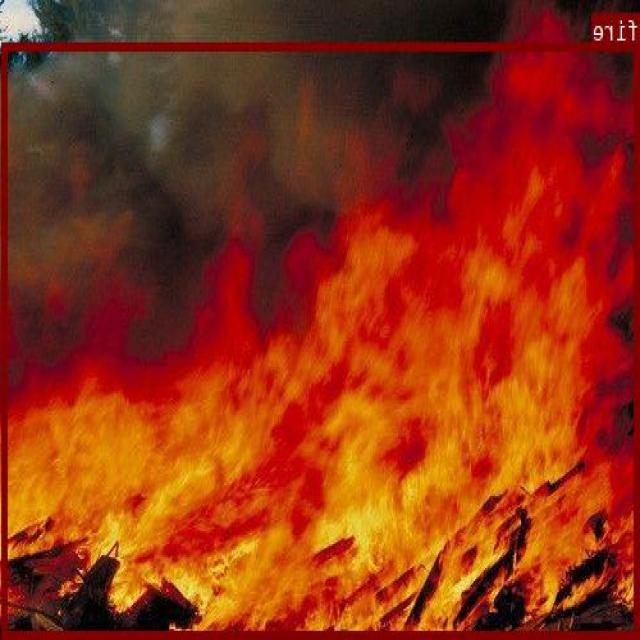fire: (4, 41, 640, 636)
